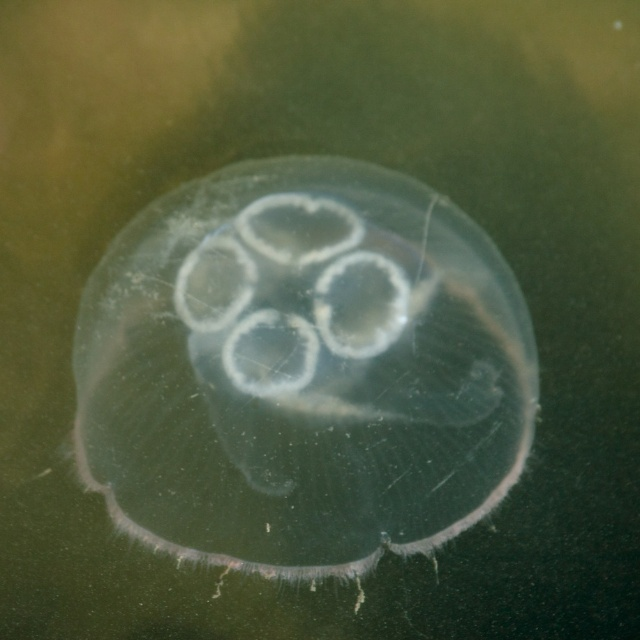Jellyfish: (69, 140, 549, 582)
